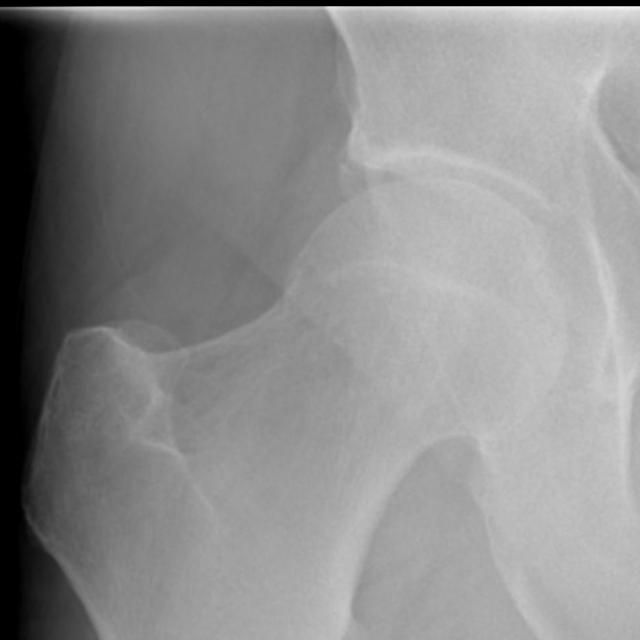Fitted_femural_head: (273, 180, 432, 273)
